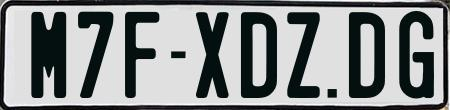7: (76, 9, 114, 97)
D: (240, 9, 279, 99), (347, 10, 385, 102)
F: (124, 9, 159, 96)
G: (399, 10, 435, 104)
M: (28, 9, 66, 101)
X: (193, 9, 228, 96)
Z: (286, 12, 323, 104)
